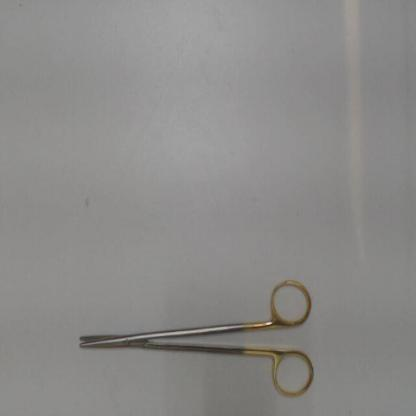7 Metzenbaum Scissors: (76, 270, 318, 403)
